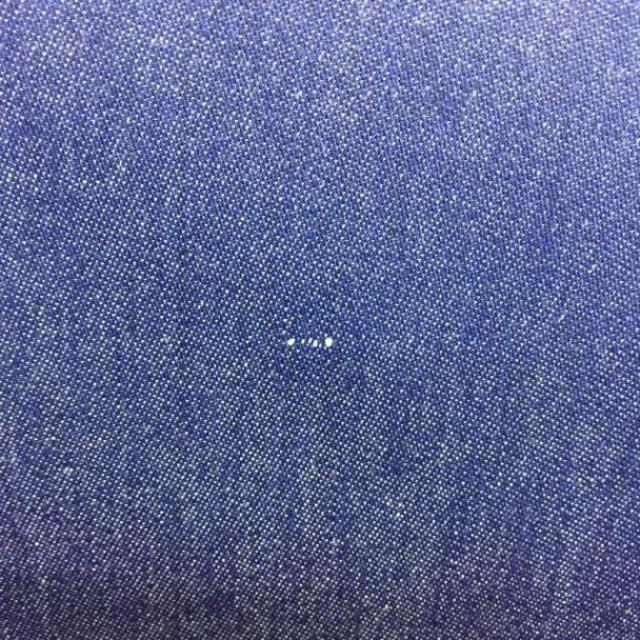Knot: (286, 337, 336, 349)
